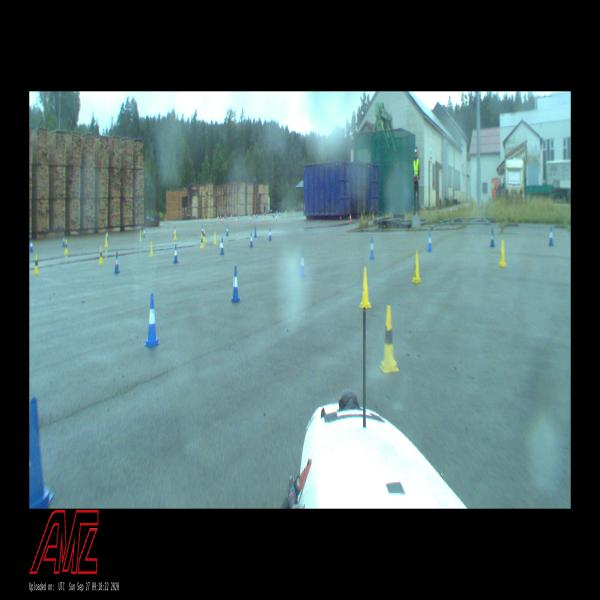blue_cone: (29, 398, 54, 508), (144, 295, 160, 347), (232, 266, 240, 302), (369, 238, 375, 260), (114, 252, 120, 274), (426, 232, 432, 251), (300, 252, 304, 276), (490, 229, 495, 247), (173, 244, 178, 262), (549, 227, 553, 246), (249, 232, 253, 247), (268, 227, 272, 240), (220, 238, 223, 254), (30, 238, 33, 252), (62, 235, 65, 247), (106, 230, 109, 241), (254, 227, 257, 237), (226, 226, 229, 236), (143, 228, 146, 238), (202, 225, 203, 235)
orange_cone: (349, 214, 352, 224), (361, 213, 363, 224), (372, 212, 374, 222)
yellow_cone: (379, 306, 398, 372), (360, 267, 372, 308), (412, 251, 421, 282), (499, 240, 506, 266), (34, 254, 38, 274), (99, 246, 103, 264), (150, 241, 154, 256), (200, 233, 203, 248), (65, 240, 68, 255), (214, 231, 217, 244), (203, 230, 206, 241), (174, 229, 177, 240), (105, 236, 108, 247), (140, 230, 142, 241)
